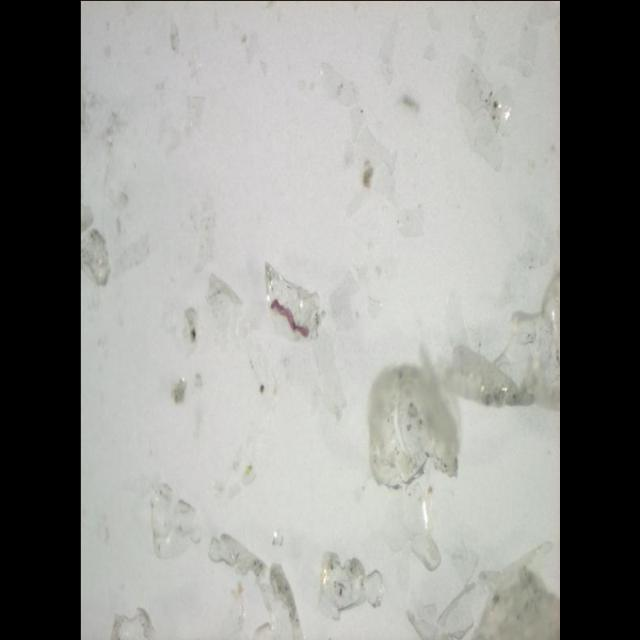Fibre: (266, 292, 310, 344)
